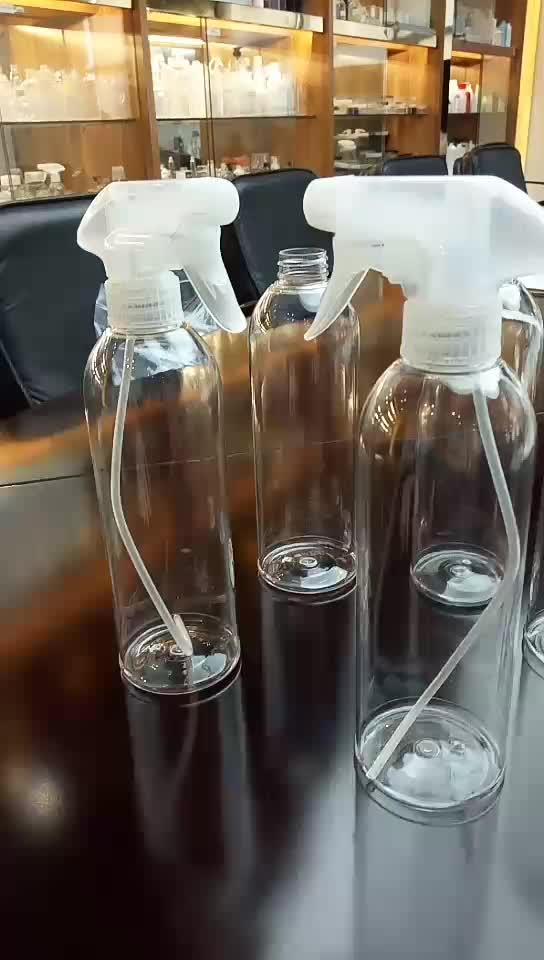glass: (249, 248, 358, 602)
plastic: (77, 179, 251, 696), (304, 176, 543, 538), (249, 248, 358, 602)
